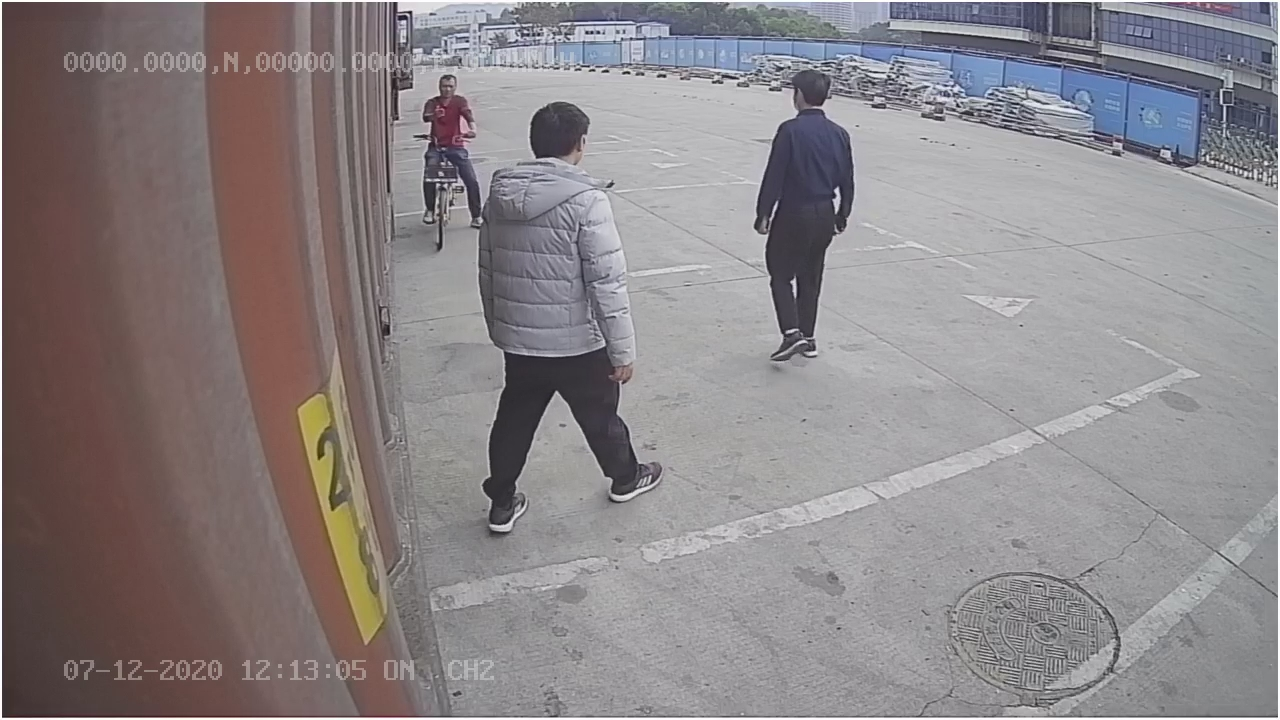person: (752, 67, 857, 362)
